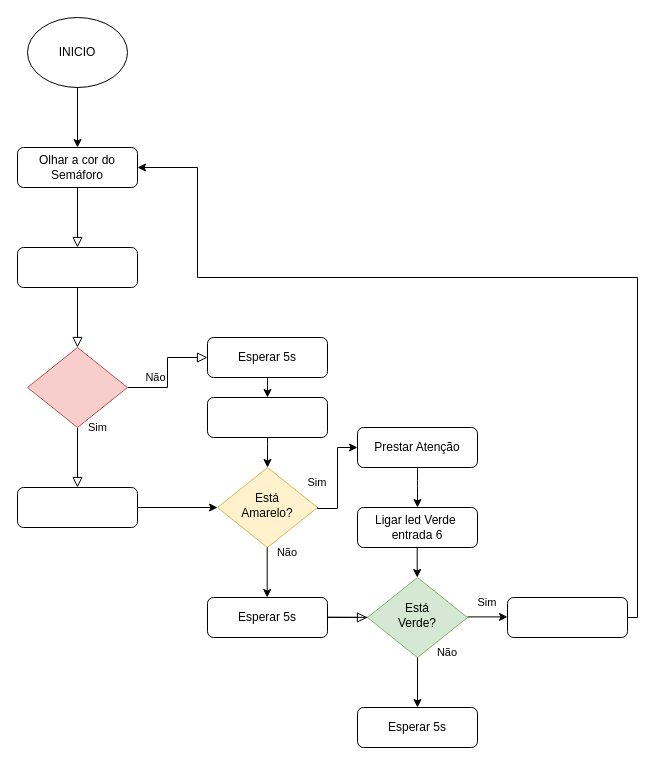
This 663x765 diagram has some shape labels left out. The shapes that lost their labels are listed below. From the top down, each one's centre as x and y in pixels, then its label:
At pixel 77 267: "Ligar led Vermelho saida 3".
At pixel 77 387: "Está Vermelho?".
At pixel 267 417: "Ligar led Amarelo saida 9".
At pixel 77 507: "Parar".
At pixel 567 617: "Prosseguir para o próximo Semáforo".
